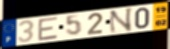0: (134, 7, 152, 30)
2: (87, 11, 106, 36)
3: (17, 19, 37, 44)
5: (65, 14, 84, 38)
E: (37, 16, 59, 42)
N: (108, 7, 134, 35)
